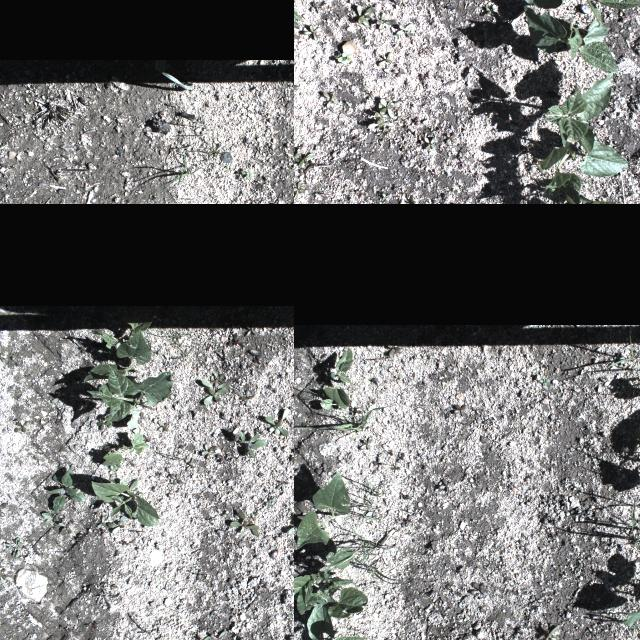crop: (522, 5, 620, 76), (542, 72, 612, 156), (538, 141, 629, 204), (86, 364, 174, 428), (294, 540, 366, 618), (84, 313, 152, 382), (294, 471, 348, 549), (509, 0, 640, 28), (91, 482, 157, 526), (314, 347, 352, 418), (302, 603, 368, 640), (101, 434, 149, 466), (622, 564, 640, 640), (556, 195, 640, 204)
weed: (296, 404, 378, 434), (155, 150, 189, 198), (50, 469, 86, 513), (611, 329, 640, 368), (353, 479, 381, 519), (200, 372, 230, 406), (356, 534, 404, 554), (229, 508, 259, 536), (625, 502, 640, 555), (358, 568, 402, 586), (238, 430, 266, 458), (264, 408, 288, 436), (202, 135, 224, 159), (154, 327, 198, 339), (355, 434, 375, 460), (162, 70, 192, 86), (540, 622, 564, 640), (6, 538, 27, 558), (172, 338, 192, 359), (104, 516, 125, 534), (186, 118, 212, 132), (356, 6, 376, 24), (450, 399, 468, 419), (119, 479, 139, 496), (378, 98, 394, 119), (376, 12, 394, 30), (393, 22, 413, 38), (302, 24, 322, 40), (383, 342, 402, 358), (321, 92, 339, 108), (438, 478, 456, 494), (466, 581, 486, 595), (394, 449, 408, 469), (200, 444, 216, 460), (398, 514, 414, 530), (313, 461, 329, 477), (41, 512, 59, 526), (366, 120, 390, 130), (357, 6, 369, 26), (374, 112, 390, 126), (376, 52, 392, 66), (298, 152, 312, 168), (96, 418, 112, 432), (536, 374, 552, 388), (482, 31, 494, 49), (391, 109, 405, 123), (336, 52, 350, 66), (57, 520, 71, 534), (240, 390, 252, 406), (202, 632, 226, 640), (294, 181, 304, 200), (423, 138, 435, 152), (245, 322, 257, 336), (516, 541, 530, 553), (14, 421, 28, 432), (484, 4, 496, 16), (96, 516, 108, 528), (538, 508, 546, 526), (240, 169, 254, 179), (168, 474, 182, 484), (185, 457, 195, 471), (102, 473, 116, 483), (377, 102, 399, 108), (444, 132, 454, 144), (376, 128, 388, 138), (392, 67, 404, 77), (276, 480, 288, 490), (294, 456, 300, 476), (288, 517, 294, 535), (216, 454, 226, 464), (158, 421, 168, 431), (108, 464, 122, 471), (294, 146, 299, 165), (409, 195, 419, 204), (0, 569, 6, 584), (449, 634, 464, 640), (267, 498, 275, 507), (372, 459, 380, 468), (0, 503, 5, 517), (294, 29, 300, 40), (381, 194, 389, 202), (414, 116, 420, 126), (0, 350, 5, 362), (375, 637, 394, 640), (222, 509, 228, 518), (221, 165, 229, 171), (298, 172, 304, 180), (294, 81, 298, 92), (25, 99, 31, 105), (0, 559, 3, 571), (180, 410, 182, 420)
